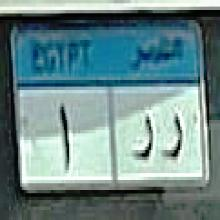1: (55, 105, 72, 172)
raa: (132, 106, 156, 168), (162, 106, 186, 161)
